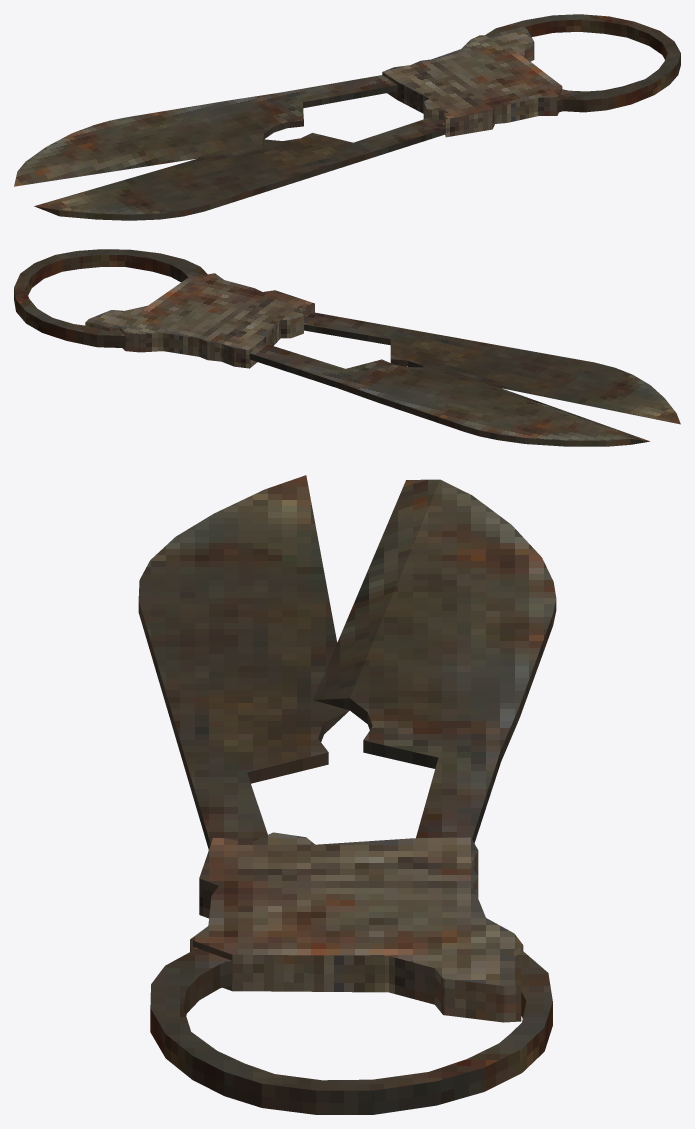
The model's file is misc_tool_mx_2.glb.
3 views of the same model, one above another, from view 1: azimuth 30°, elevation 25°; view 2: azimuth 150°, elevation 25°; view 3: azimuth 270°, elevation 25° (orthographic). The views are drawn at different scales.
Visible parts, largest first — view 1: misc_tool_mx_2; view 2: misc_tool_mx_2; view 3: misc_tool_mx_2.
Boxes of the visible parts, x1,y1,x2,y2 form: misc_tool_mx_2: (14, 14, 680, 220); misc_tool_mx_2: (14, 249, 680, 446); misc_tool_mx_2: (138, 475, 556, 1114).
Size of the model in its own units: 0.2768 by 0.0075 by 0.0778.
Materials: 1 (1 with a texture image).
